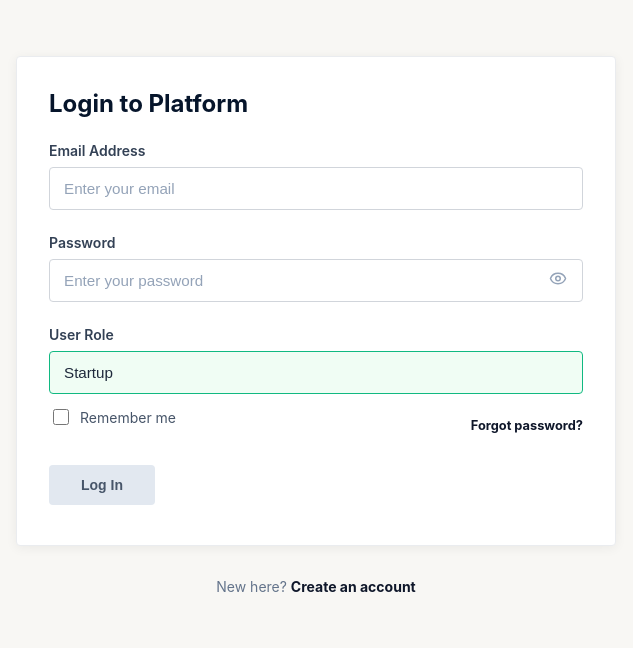
Scenario: LoginPage › displays server error on failed login
Type "wrong@test.com" into the field labelled "Email Address" at x=316, y=188, box [49,166,583,210]
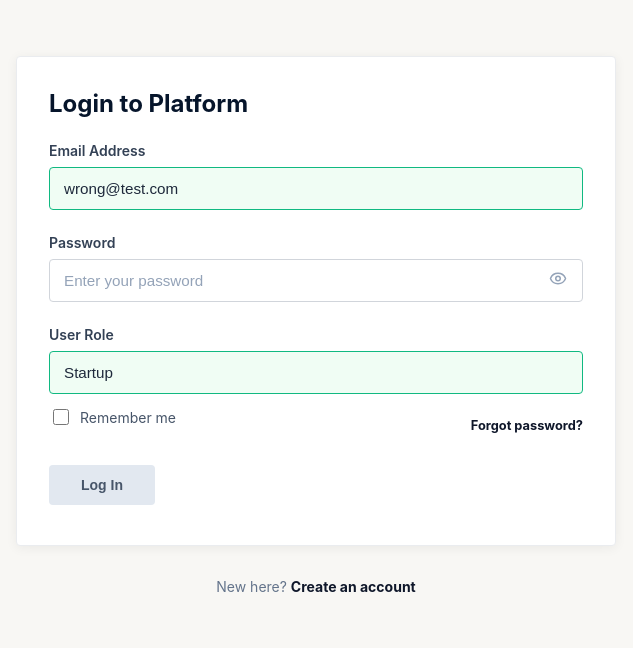
Type "wrongpass" into the password field labelled "Password" at x=316, y=280, box [49,258,583,302]
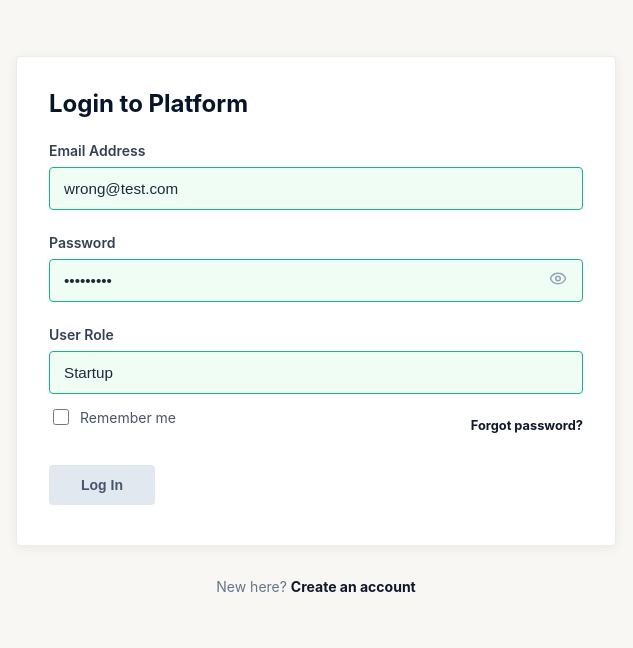
Click the button "Log In" at x=102, y=484, box [49,464,155,504]
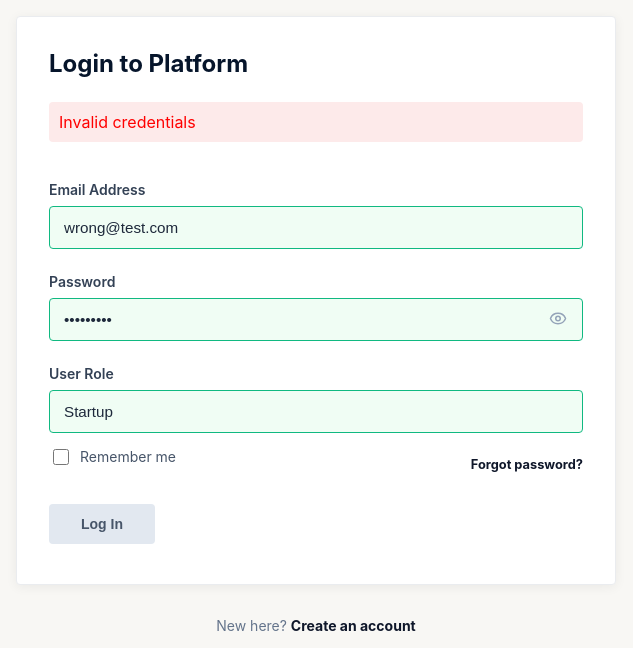
Check: the text "Invalid credentials" is shown, box [49,102,583,142]
